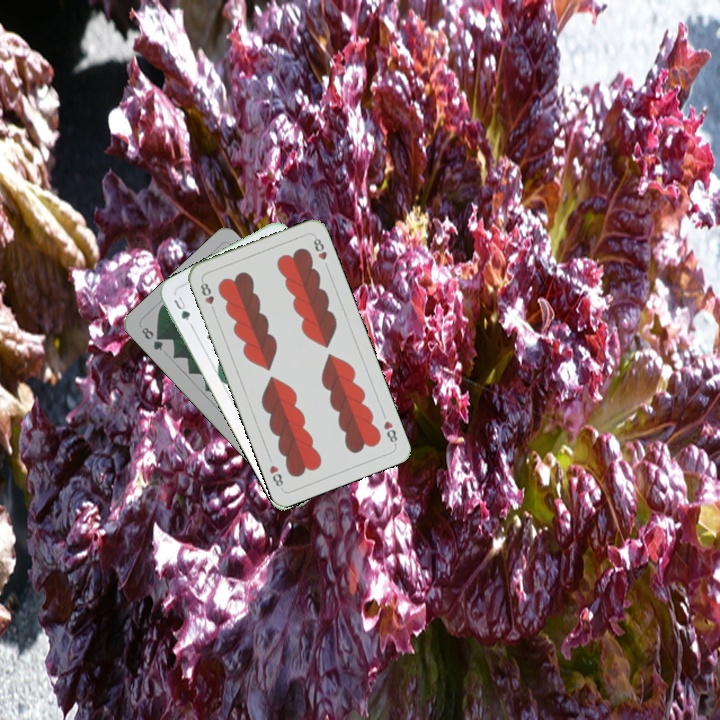G8: (137, 323, 166, 354)
GU: (169, 292, 193, 324)
H8: (196, 276, 218, 315), (379, 417, 400, 448)
